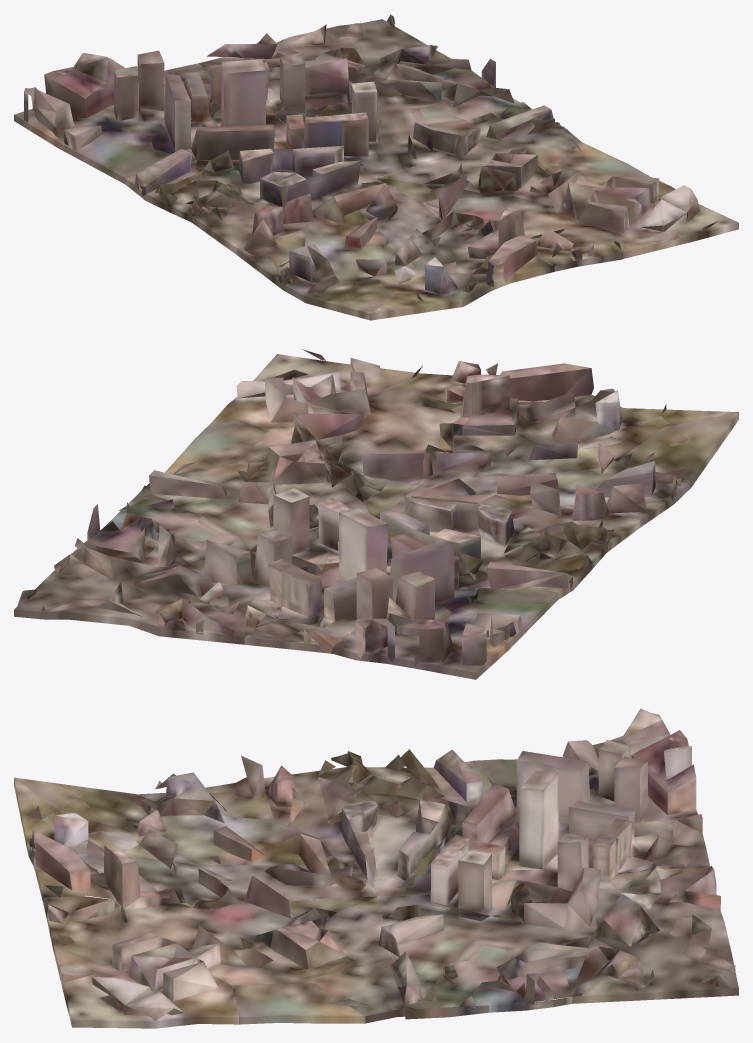
3 views of the same model, one above another, from view 1: azimuth 30°, elevation 25°; view 2: azimuth 150°, elevation 25°; view 3: azimuth 270°, elevation 25° (orthographic). The views are drawn at different scales.
Parts seen in each view (by area): view 1: Mesh_0; view 2: Mesh_0; view 3: Mesh_0.
Boxes of the visible parts, x1,y1,x2,y2 form: Mesh_0: (14,14,738,320); Mesh_0: (14,349,738,679); Mesh_0: (14,708,738,1028).
Size of the model in its own units: 532 by 107 by 659.
Materials: 2 (2 with a texture image).
